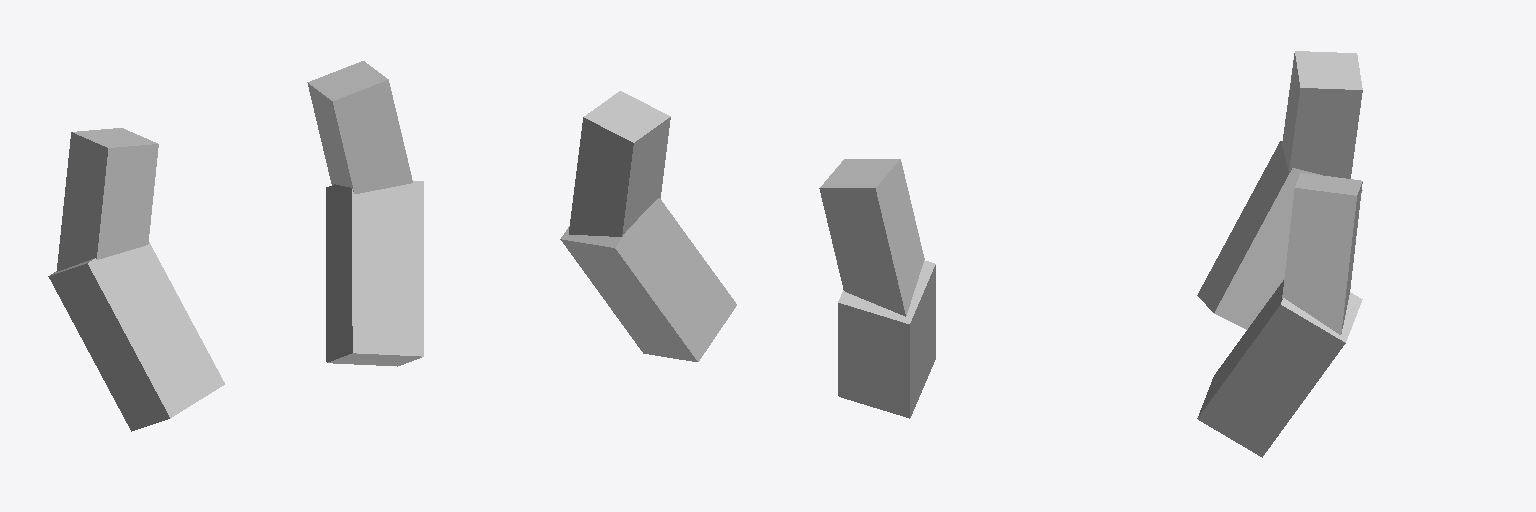
File: horns.obj
3 views of the same model, side by side, from view 1: azimuth 30°, elevation 25°; view 2: azimuth 150°, elevation 25°; view 3: azimuth 270°, elevation 25° (orthographic).
Visible parts, largest first — view 1: Cube_Cube.001; view 2: Cube_Cube.001; view 3: Cube_Cube.001.
Boxes of the visible parts, x1,y1,x2,y2 form: Cube_Cube.001: [48, 61, 423, 431]; Cube_Cube.001: [560, 91, 935, 418]; Cube_Cube.001: [1197, 51, 1362, 457].
Size of the model in its own units: 0.807 by 0.603 by 0.3314.